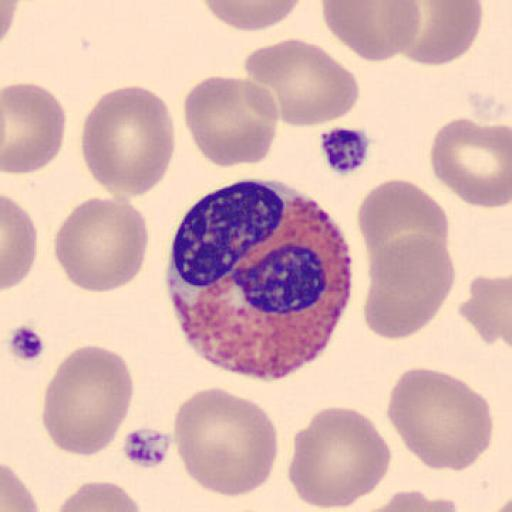Platelet: (317, 122, 374, 178), (120, 424, 176, 472), (9, 322, 46, 362)
RBC: (171, 385, 281, 499), (385, 366, 494, 473), (287, 404, 393, 510), (242, 36, 361, 129), (79, 84, 176, 198), (40, 345, 135, 458), (362, 232, 456, 341), (53, 194, 149, 294), (355, 177, 451, 277), (182, 74, 280, 170), (429, 115, 512, 210), (387, 0, 484, 66), (320, 0, 422, 62), (3, 81, 68, 176), (459, 272, 512, 349), (2, 192, 38, 292), (200, 0, 304, 34), (53, 479, 144, 512), (345, 488, 463, 512), (0, 462, 40, 512), (0, 0, 21, 53), (0, 0, 24, 41)
WBC: (164, 177, 354, 382)
